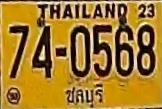0: (70, 25, 90, 76)
4: (32, 24, 52, 77)
5: (92, 24, 112, 76)
6: (114, 24, 133, 75)
7: (8, 25, 28, 77)
8: (136, 24, 154, 75)
CBI: (62, 82, 105, 109)
